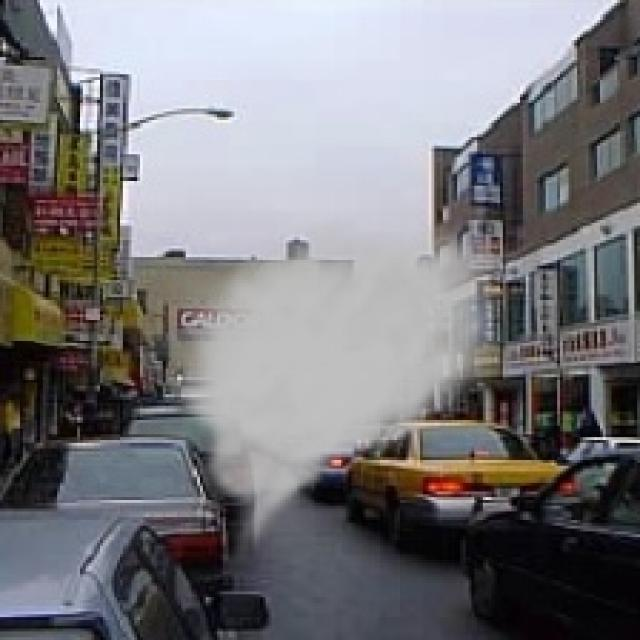smoke: (157, 212, 526, 572)
